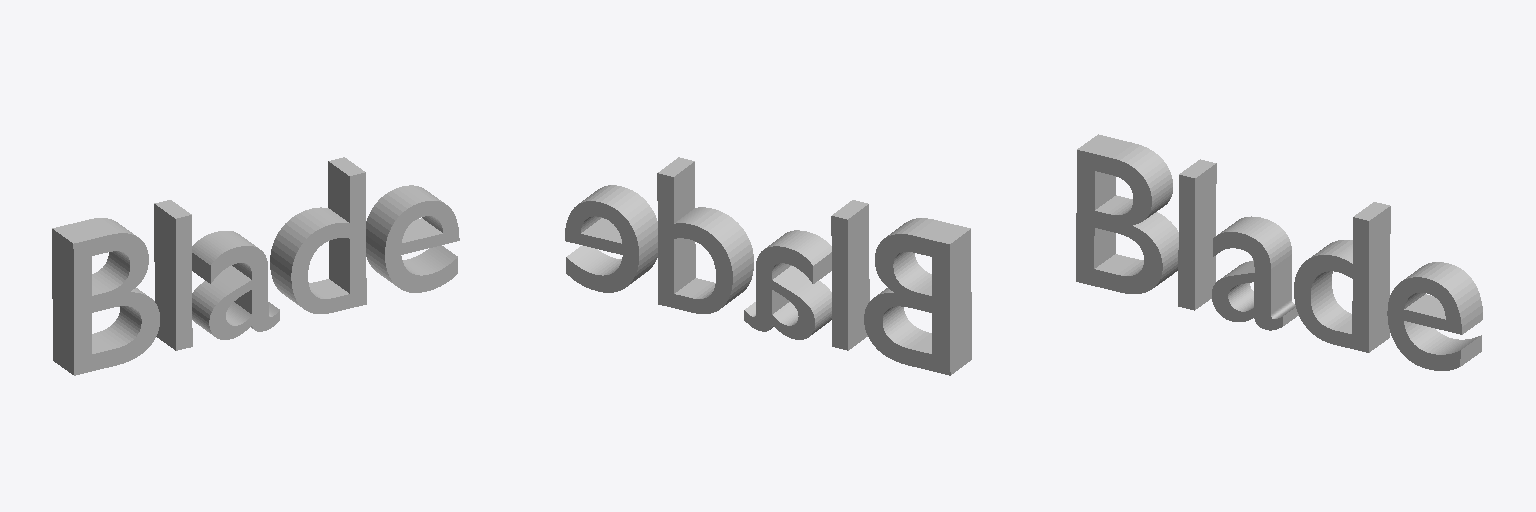
File: blade.obj
3 renders of one model, left to right at view 1: azimuth 30°, elevation 25°; view 2: azimuth 150°, elevation 25°; view 3: azimuth 330°, elevation 25°, orthographic.
Visible parts, largest first — view 1: テキスト; view 2: テキスト; view 3: テキスト.
Part boxes in pixels (x1,y1,x2,y2): テキスト: (52, 157, 459, 375); テキスト: (565, 157, 971, 375); テキスト: (1076, 134, 1482, 370).
Bounding box in the file's own units: 2.09 × 0.6927 × 0.206.